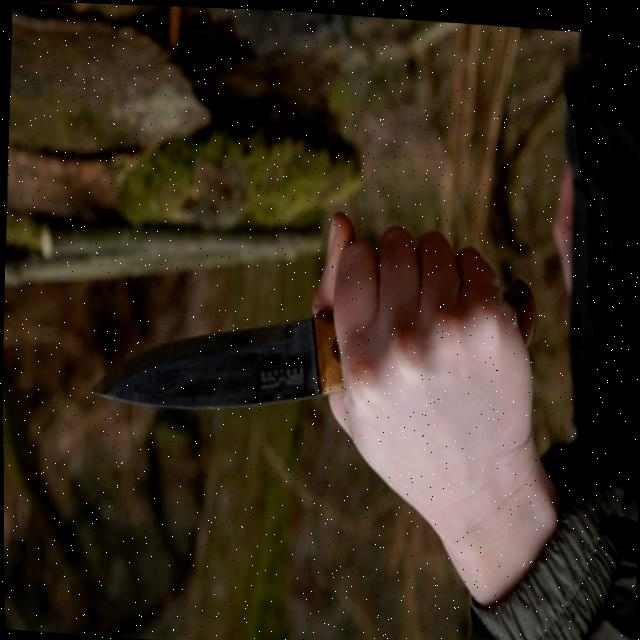knife: (88, 293, 339, 436)
